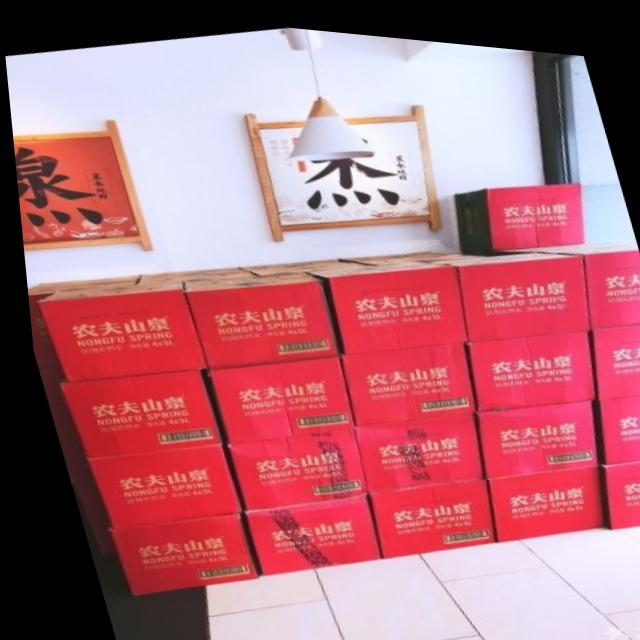box: (33, 277, 200, 381), (301, 253, 463, 348), (179, 267, 334, 366), (53, 366, 214, 457), (429, 241, 584, 332), (77, 440, 232, 527), (203, 351, 345, 440), (100, 509, 246, 595), (495, 231, 640, 317), (221, 422, 360, 507), (335, 333, 470, 420), (235, 489, 371, 571), (458, 319, 589, 401), (22, 273, 135, 368), (347, 405, 475, 487), (361, 471, 485, 552), (468, 390, 589, 469), (451, 170, 582, 241), (480, 454, 594, 533), (587, 311, 640, 388), (583, 383, 640, 454), (589, 448, 640, 517), (237, 253, 367, 270), (334, 243, 480, 258), (134, 263, 250, 280), (456, 241, 489, 248), (485, 241, 518, 247)
